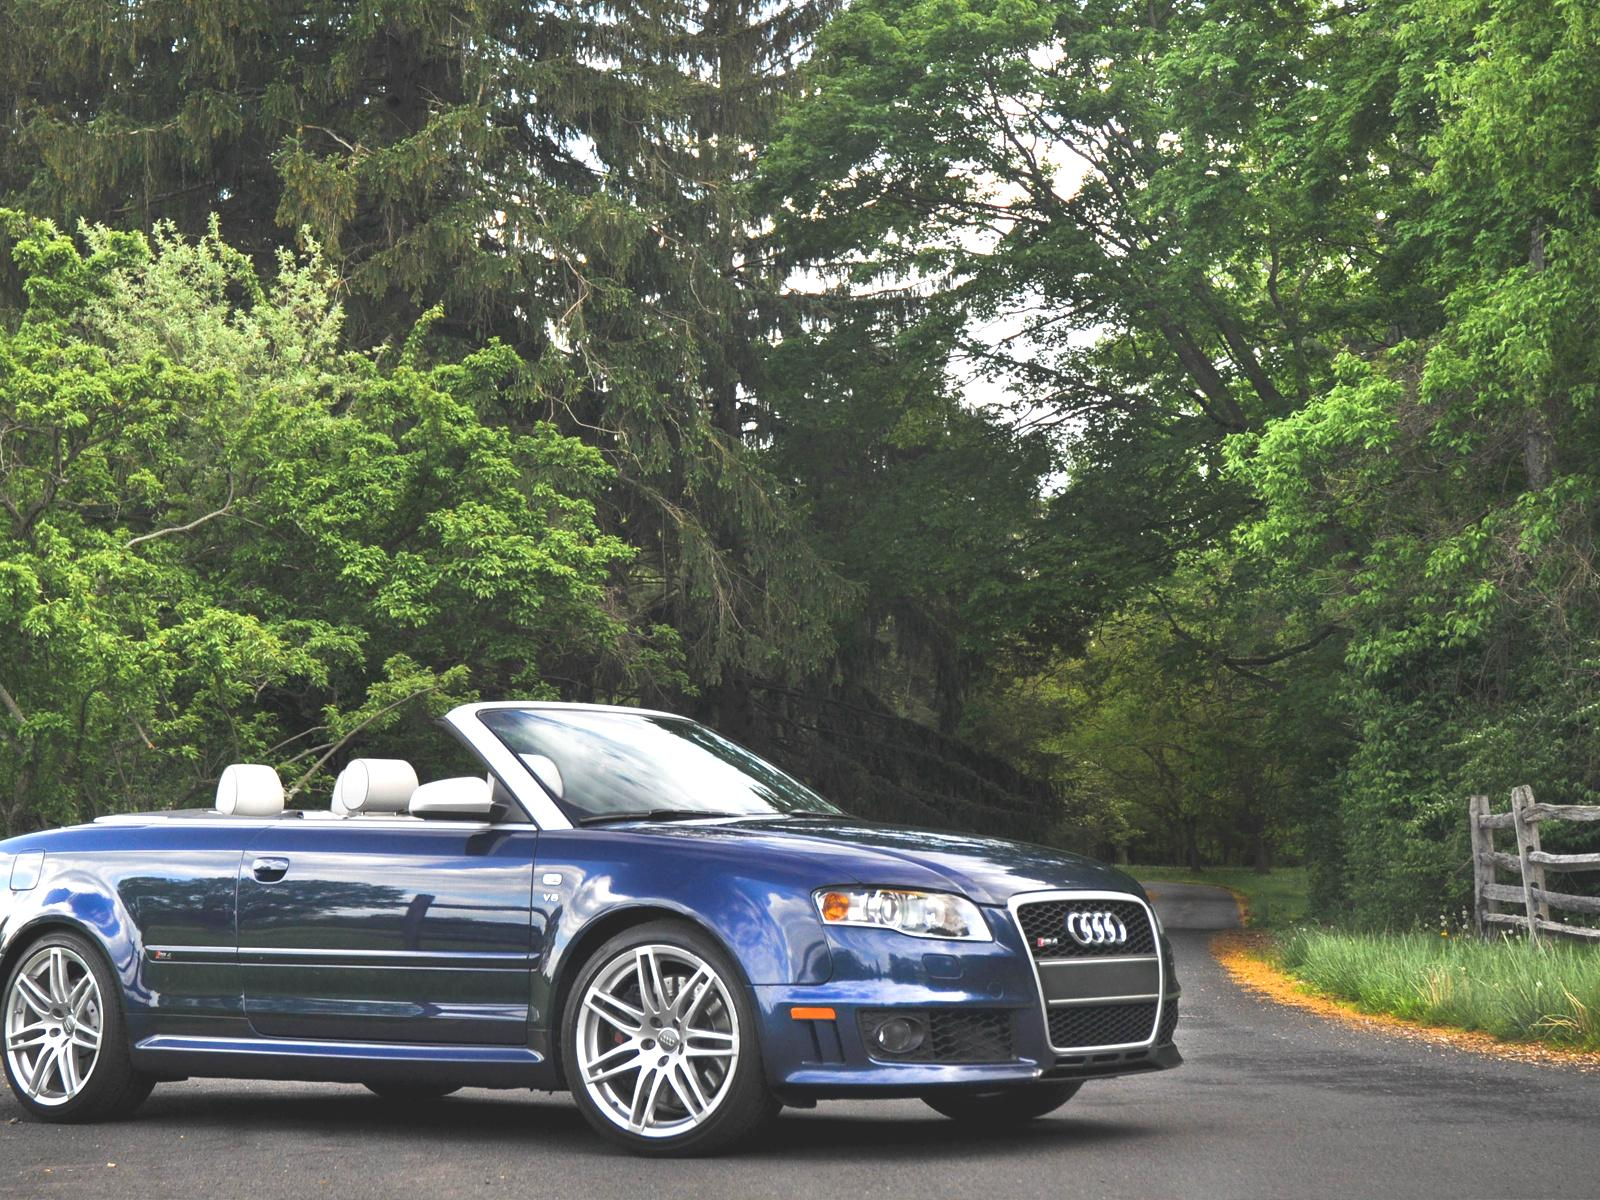Audi: (1061, 899, 1145, 957)
